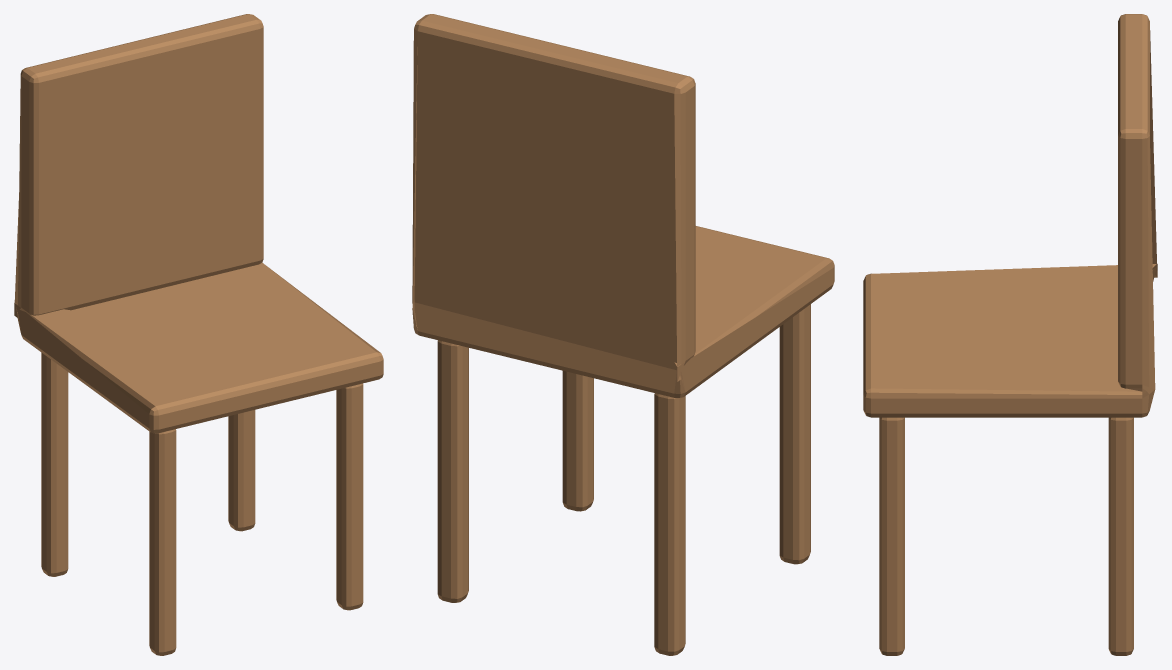
File: Silla.fbx
The picture shows the model from 3 angles, left to right: view 1: azimuth 30°, elevation 25°; view 2: azimuth 150°, elevation 25°; view 3: azimuth 270°, elevation 25°; orthographic projection. The views are drawn at different scales.
Visible parts, largest first — view 1: Silla; view 2: Silla; view 3: Silla.
Boxes of the visible parts, x1,y1,x2,y2 form: Silla: (14,14,383,655); Silla: (412,14,834,655); Silla: (863,14,1157,655).
Bounding box in the file's own units: 0.45 × 0.925 × 0.462.
